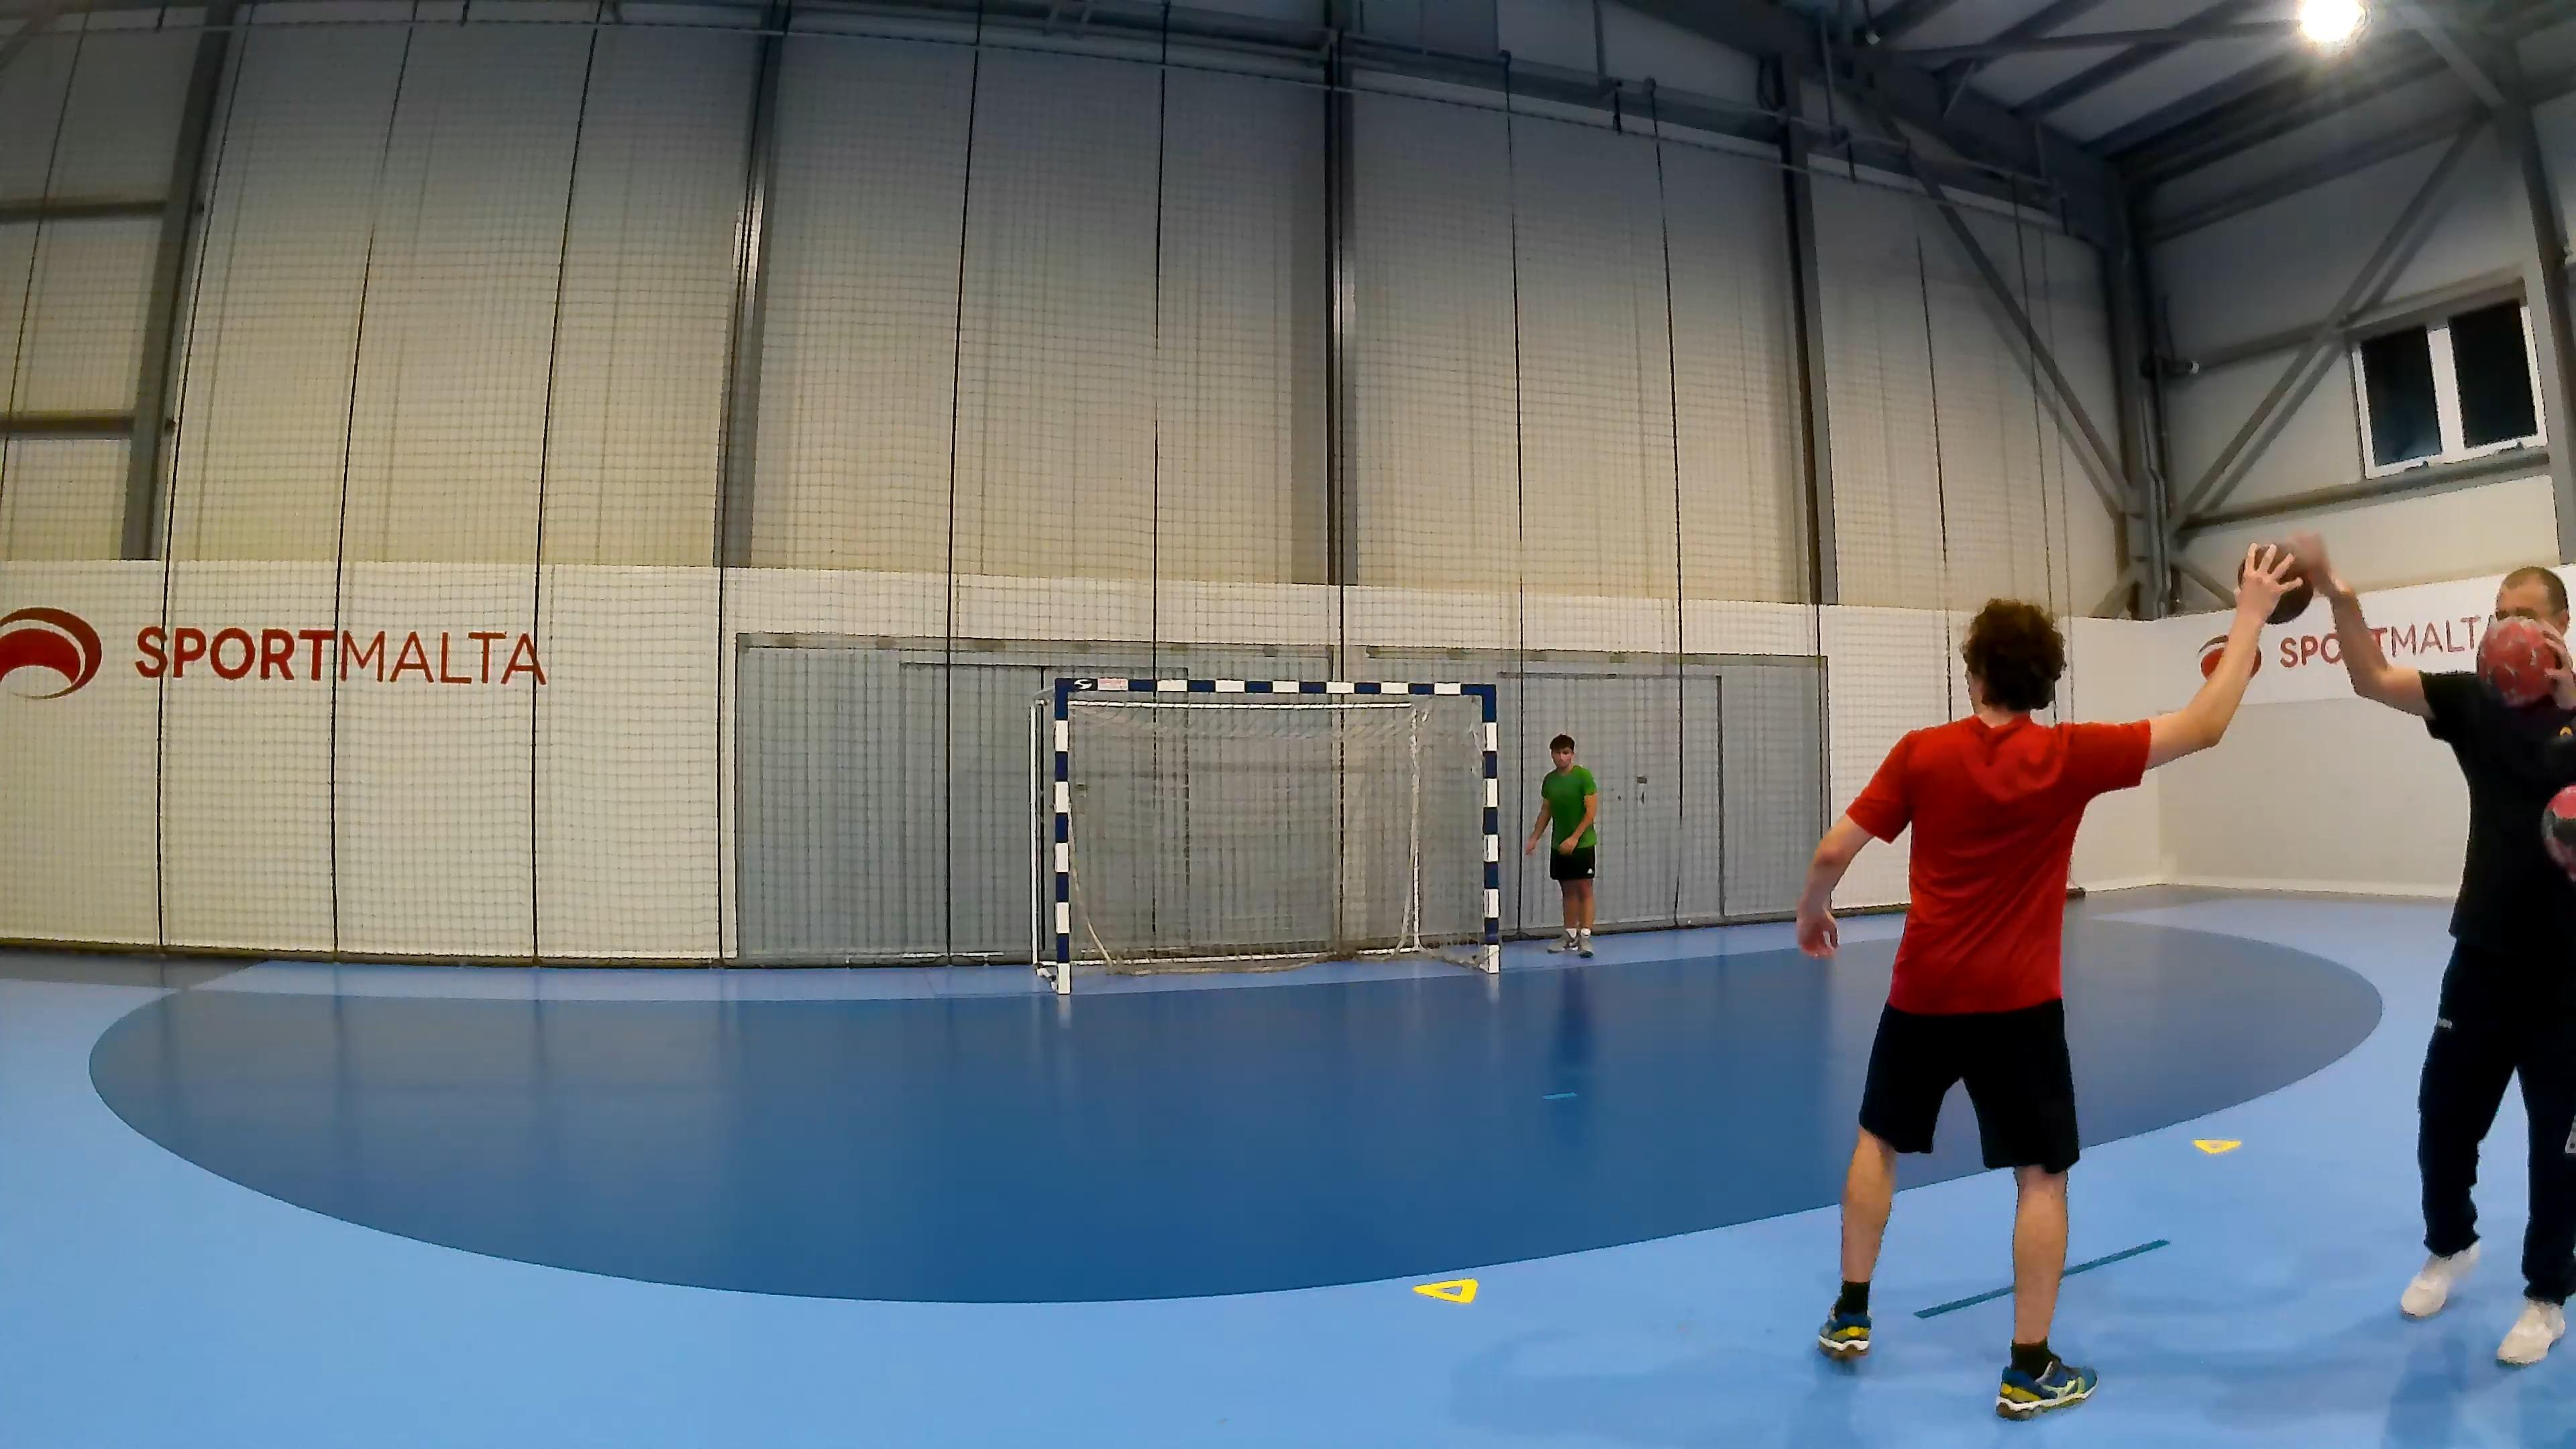handball: (2473, 616, 2562, 708), (2236, 541, 2312, 625)
